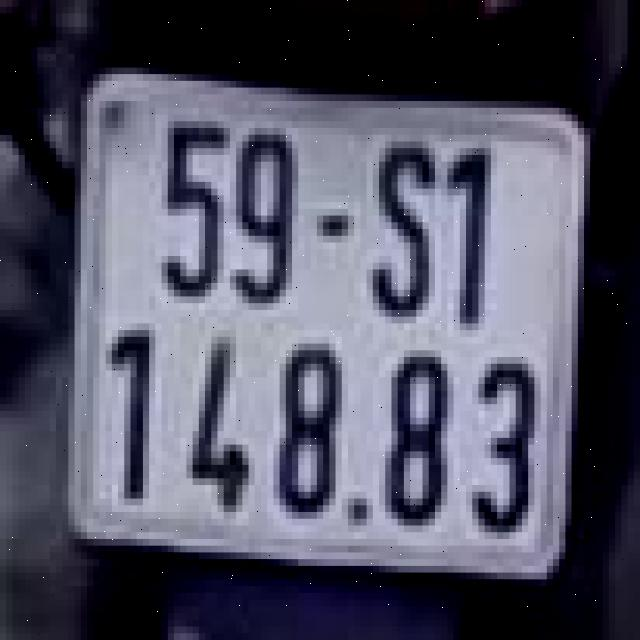1: (84, 310, 171, 519), (438, 125, 494, 340)
3: (469, 350, 544, 546)
4: (183, 327, 258, 529)
5: (143, 111, 230, 307)
8: (267, 324, 348, 526), (376, 347, 457, 536)
9: (230, 118, 304, 320)
S: (364, 124, 438, 333)
